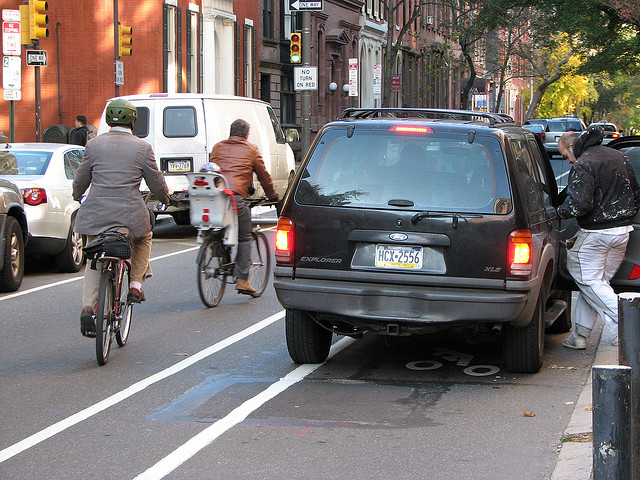Car: (288, 104, 558, 368)
Person: (560, 121, 635, 325)
